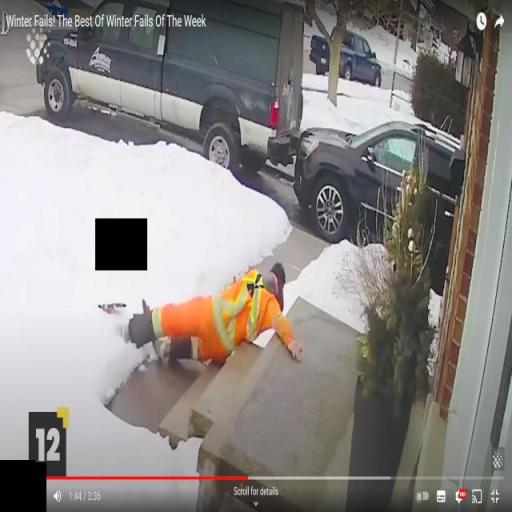Fall: (115, 257, 308, 379)
